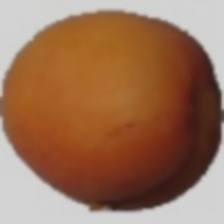apricot: (42, 2, 219, 185)
